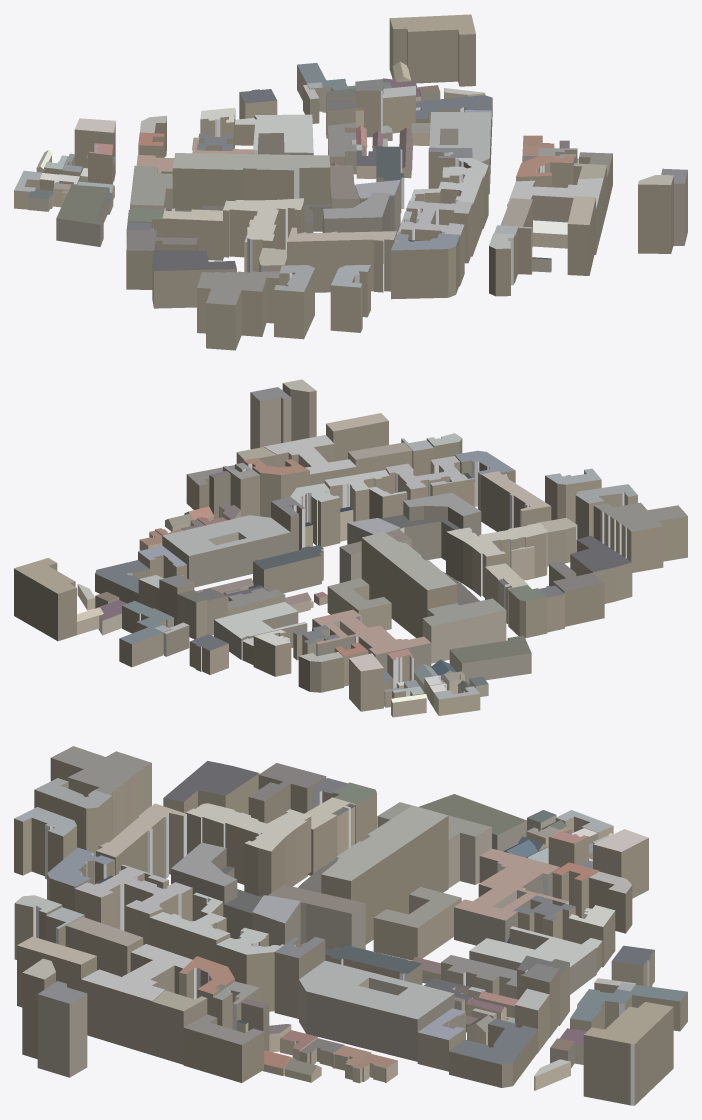
3 views of the same model, one above another, from view 1: azimuth 30°, elevation 25°; view 2: azimuth 150°, elevation 25°; view 3: azimuth 270°, elevation 25° (orthographic). The views are drawn at different scales.
Visible parts, largest first — view 1: tuile; view 2: tuile; view 3: tuile.
Boxes of the visible parts, bbox=[...] form: tuile: bbox=[14, 14, 687, 350]; tuile: bbox=[14, 379, 687, 717]; tuile: bbox=[14, 746, 687, 1105].
Bounding box in the file's own units: 286 × 49.44 × 281.
